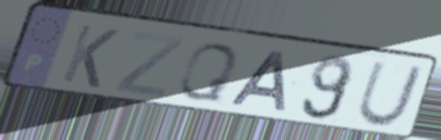9: (298, 52, 357, 123)
A: (227, 50, 290, 114)
K: (57, 21, 122, 91)
Q: (174, 41, 243, 105)
U: (353, 59, 428, 130)
Z: (111, 29, 187, 100)
